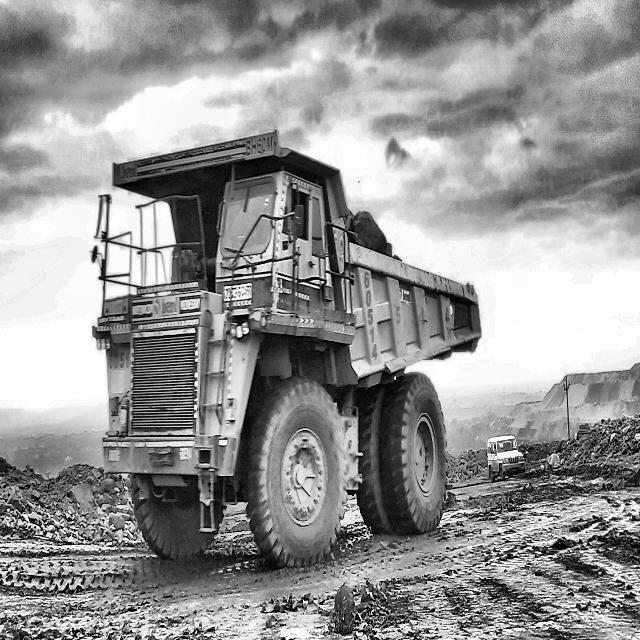dump_truck: (95, 134, 480, 565)
light_vehicle: (488, 436, 525, 480)
